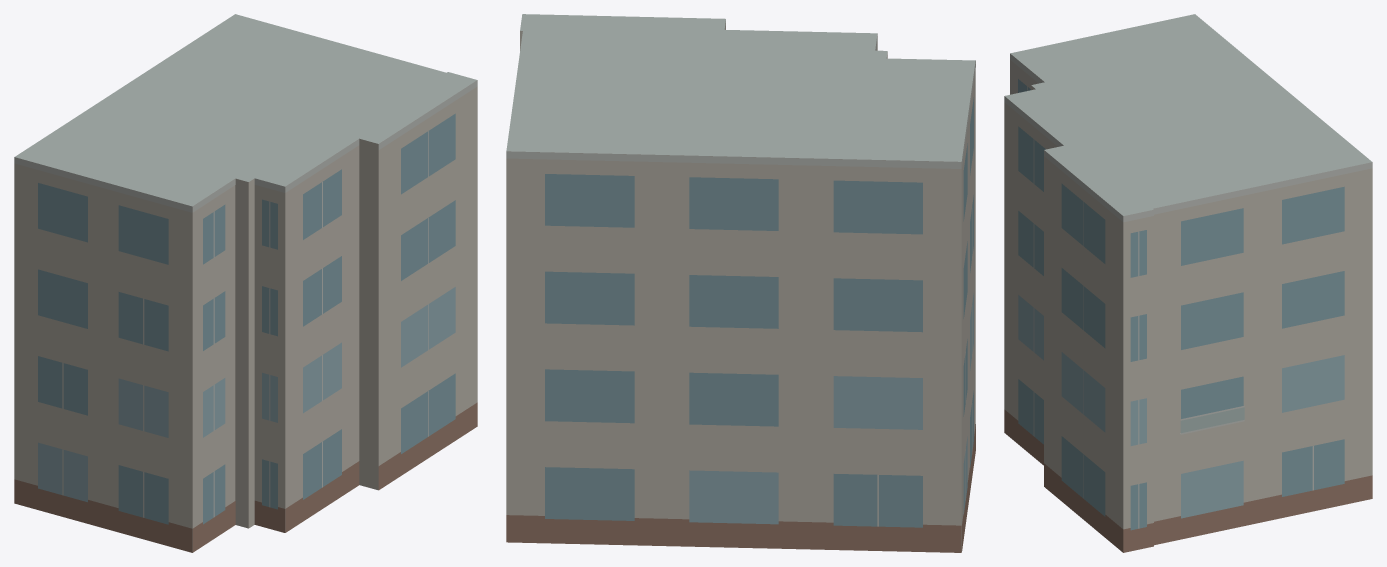
File: survey-upis-33041790.glb
3 renders of one model, left to right at view 1: azimuth 30°, elevation 25°; view 2: azimuth 150°, elevation 25°; view 3: azimuth 270°, elevation 25°, orthographic. The views are drawn at different scales.
Parts seen in each view (by area): view 1: survey-upis-33041790.tmp; view 2: survey-upis-33041790.tmp; view 3: survey-upis-33041790.tmp.
Boxes of the visible parts, x1,y1,x2,y2 form: survey-upis-33041790.tmp: (14,14,477,552); survey-upis-33041790.tmp: (506,14,975,552); survey-upis-33041790.tmp: (1004,14,1372,552).
Size of the model in its own units: 17.07 by 13.25 by 13.14.
